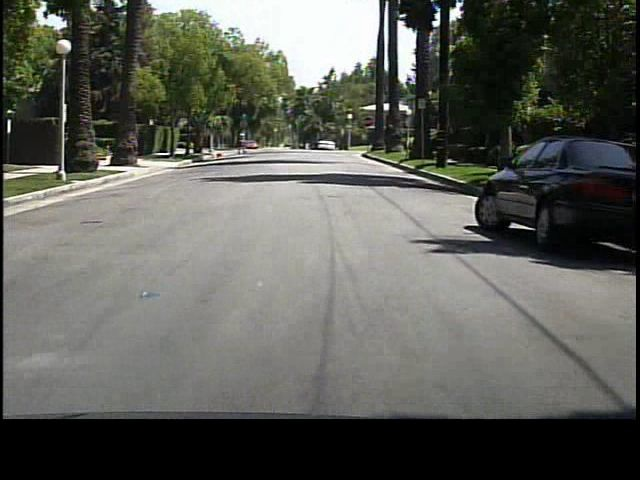person: (235, 129, 250, 160)
